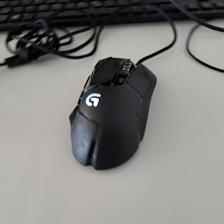mouse: (67, 56, 158, 171)
